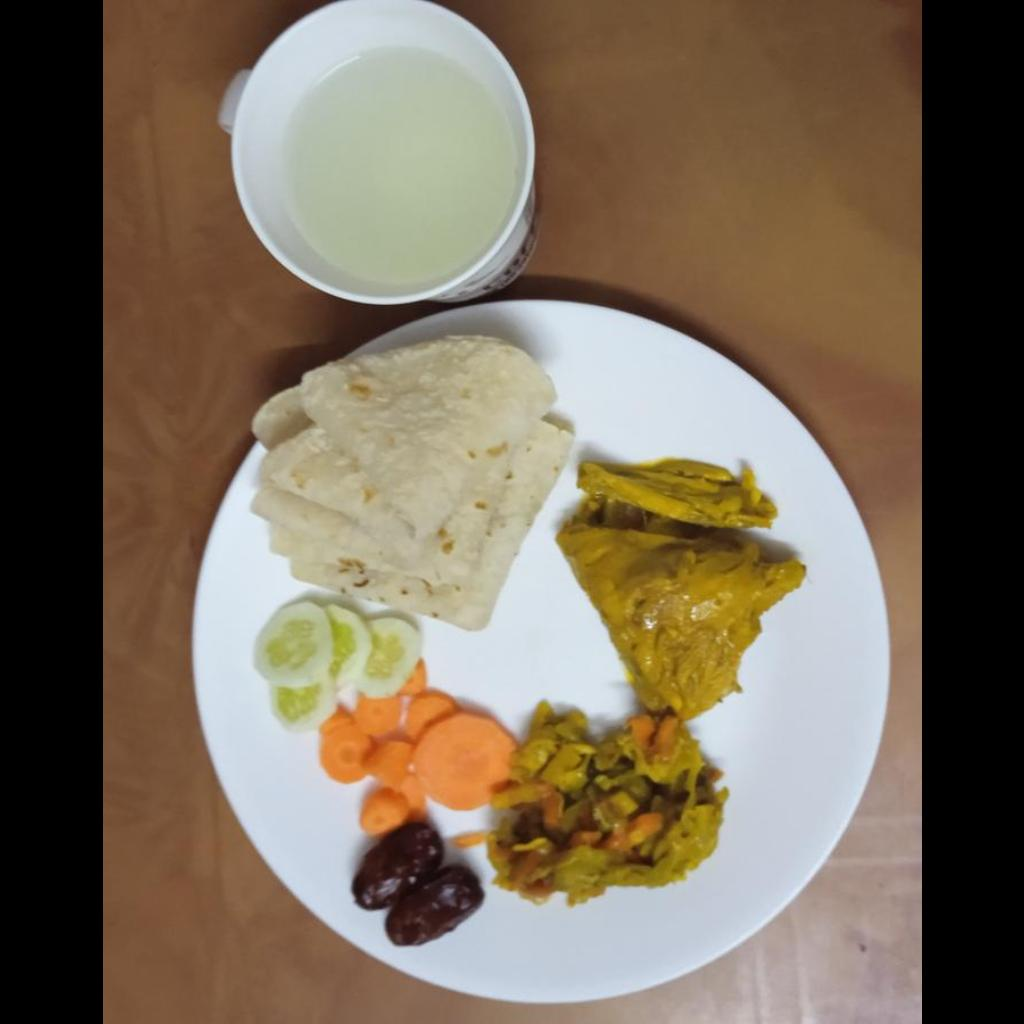carrot: (325, 689, 500, 827)
chicken: (551, 461, 803, 713)
cucumber: (242, 598, 415, 723)
dates: (349, 830, 482, 943)
rice: (248, 333, 572, 640)
vegetable: (499, 704, 725, 891)
